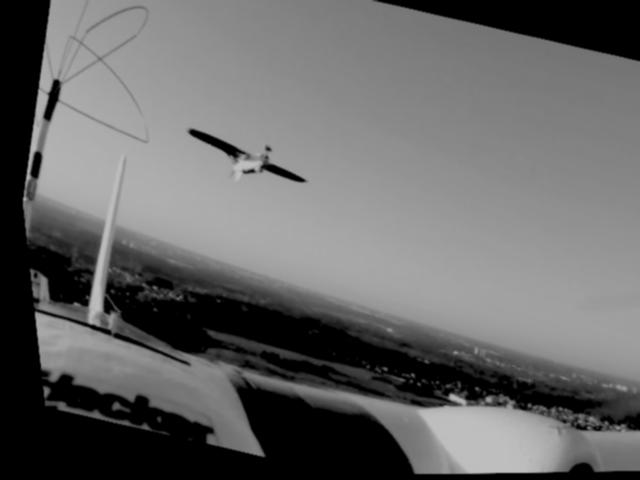hedef: (169, 110, 317, 208)
